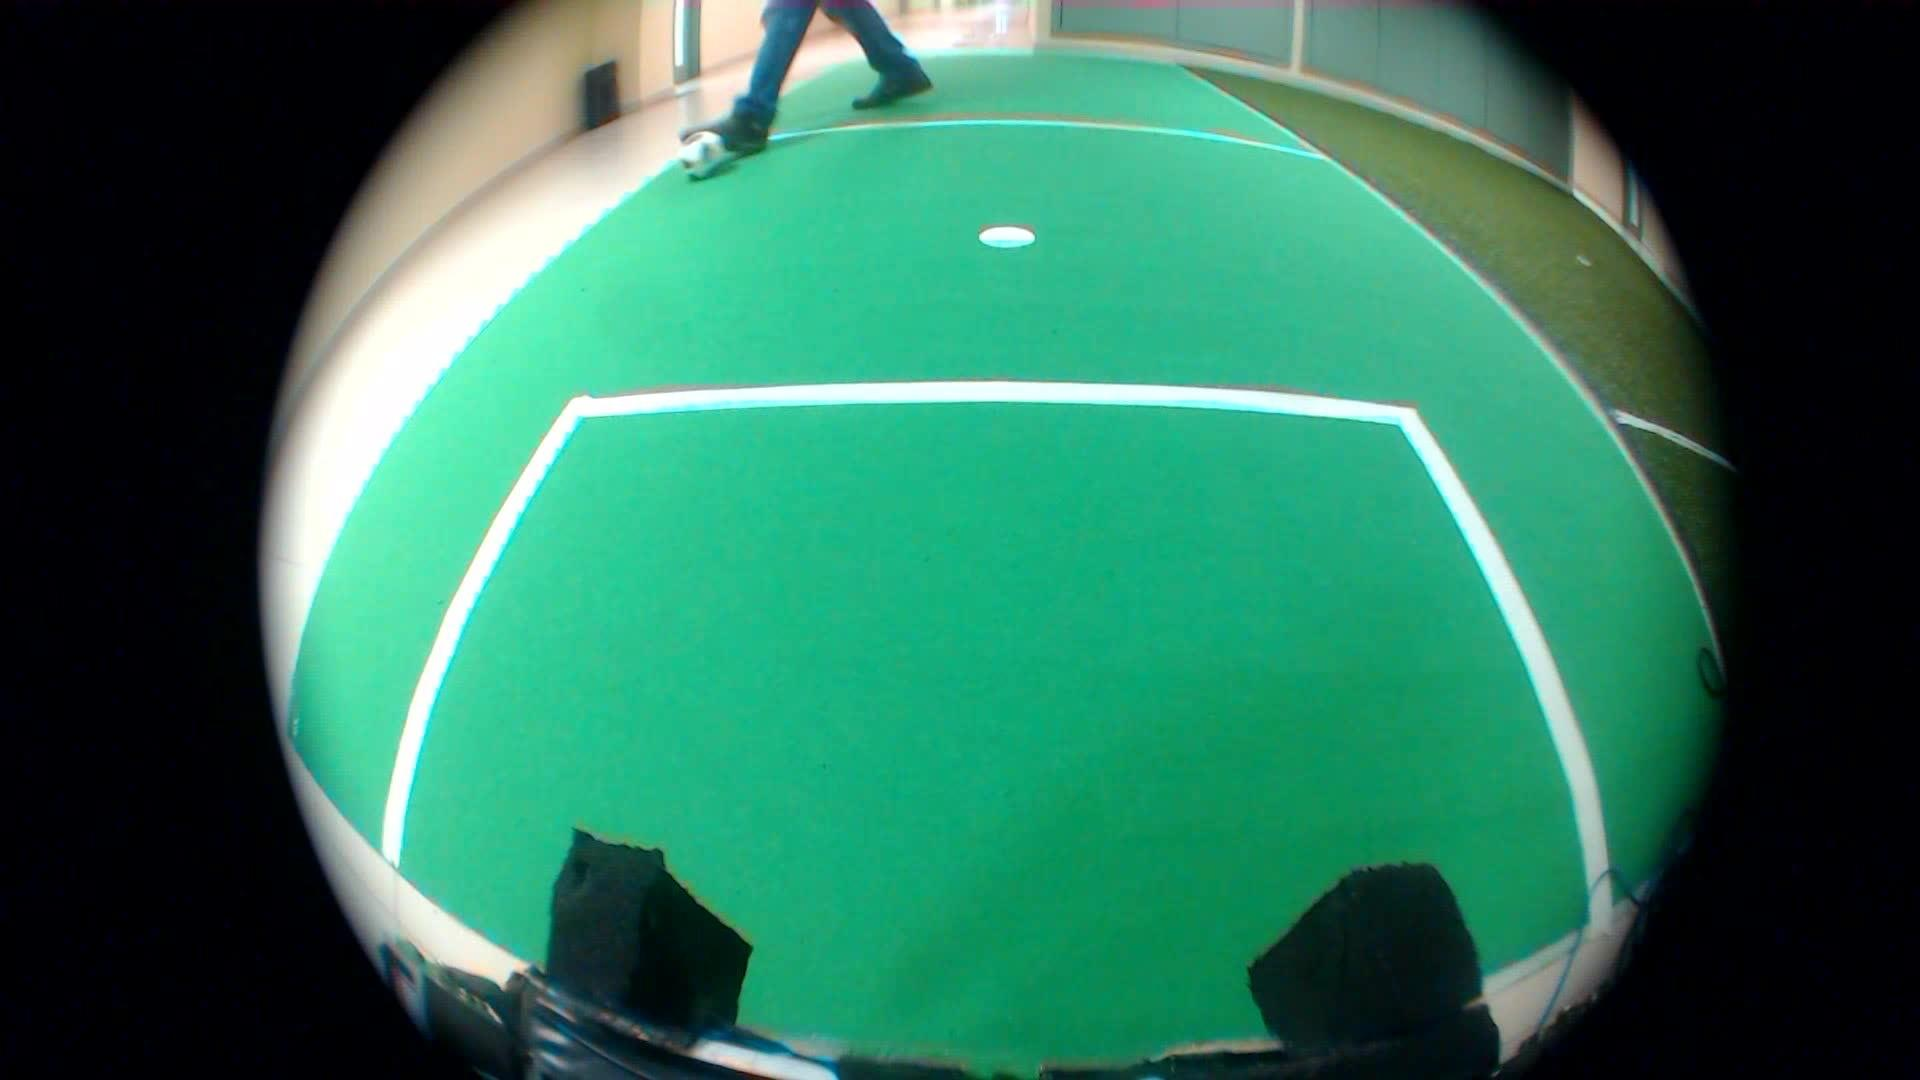ball: (673, 131, 735, 189)
